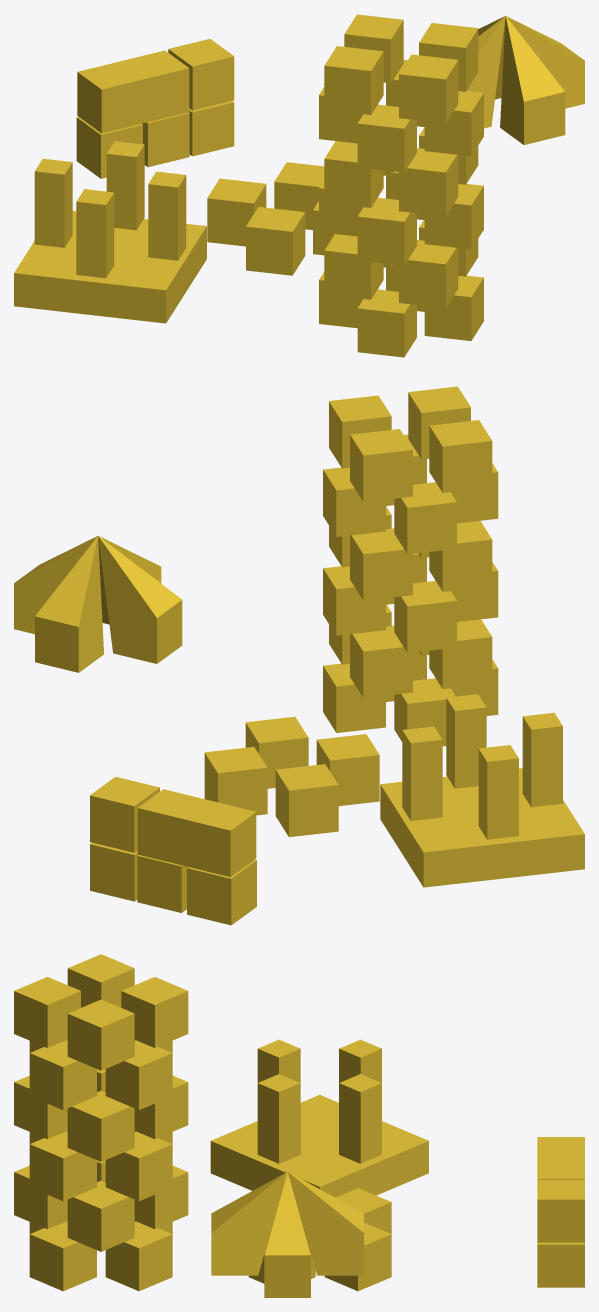
3 renders of one model, top to bottom at view 1: azimuth 30°, elevation 25°; view 2: azimuth 150°, elevation 25°; view 3: azimuth 270°, elevation 25°, orthographic. The views are drawn at different scales.
Visible parts, largest first — view 1: Cube.011, Cube.048, Cube.007, Cube.033, Cube.331, Cube.034, Cube.025, Cube.013, Cube.021, Cube.029, Cube.017, Cube.004 (+23 smaller); view 2: Cube.048, Cube.011, Cube.007, Cube.034, Cube.332, Cube.031, Cube.023, Cube.030, Cube.022, Cube.015, Cube.001, Cube.003 (+20 smaller); view 3: Cube.048, Cube.011, Cube.032, Cube.024, Cube.016, Cube.031, Cube.002, Cube.033, Cube.001, Cube.010, Cube.012, Cube.020 (+15 smaller).
Boxes of the visible parts, x1,y1,x2,y2 form: Cube.011: (14, 211, 206, 323); Cube.048: (467, 16, 584, 144); Cube.007: (77, 50, 189, 133); Cube.033: (399, 54, 458, 123); Cube.331: (246, 207, 305, 275); Cube.034: (324, 46, 383, 114); Cube.025: (399, 148, 458, 216); Cube.013: (357, 289, 416, 357); Cube.021: (357, 197, 416, 265); Cube.029: (357, 104, 416, 172); Cube.017: (399, 240, 458, 308); Cube.004: (34, 158, 72, 247); Cube.048: (14, 536, 182, 672); Cube.011: (380, 768, 584, 887); Cube.007: (137, 789, 256, 877); Cube.034: (429, 420, 492, 492); Cube.332: (275, 764, 338, 837); Cube.031: (350, 429, 412, 501); Cube.023: (350, 528, 412, 600); Cube.030: (394, 482, 456, 554); Cube.022: (394, 581, 456, 652); Cube.015: (350, 625, 412, 697); Cube.001: (402, 726, 442, 820); Cube.003: (522, 712, 562, 807); Cube.048: (211, 1172, 363, 1297); Cube.011: (210, 1095, 428, 1197); Cube.032: (67, 999, 134, 1070); Cube.024: (67, 1090, 134, 1161); Cube.016: (67, 1180, 134, 1251); Cube.031: (121, 977, 188, 1047); Cube.002: (257, 1074, 300, 1163); Cube.033: (14, 977, 80, 1047); Cube.001: (339, 1074, 381, 1163); Cube.010: (105, 1221, 172, 1291); Cube.012: (29, 1221, 96, 1291); Cube.020: (29, 1131, 96, 1201).
Size of what is drawn, in the model's own units: 22.4 by 10.88 by 20.82.
